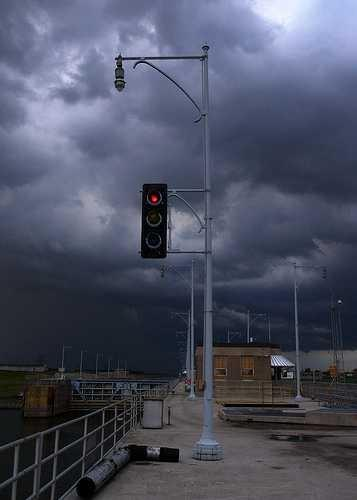red: (139, 183, 166, 256)
